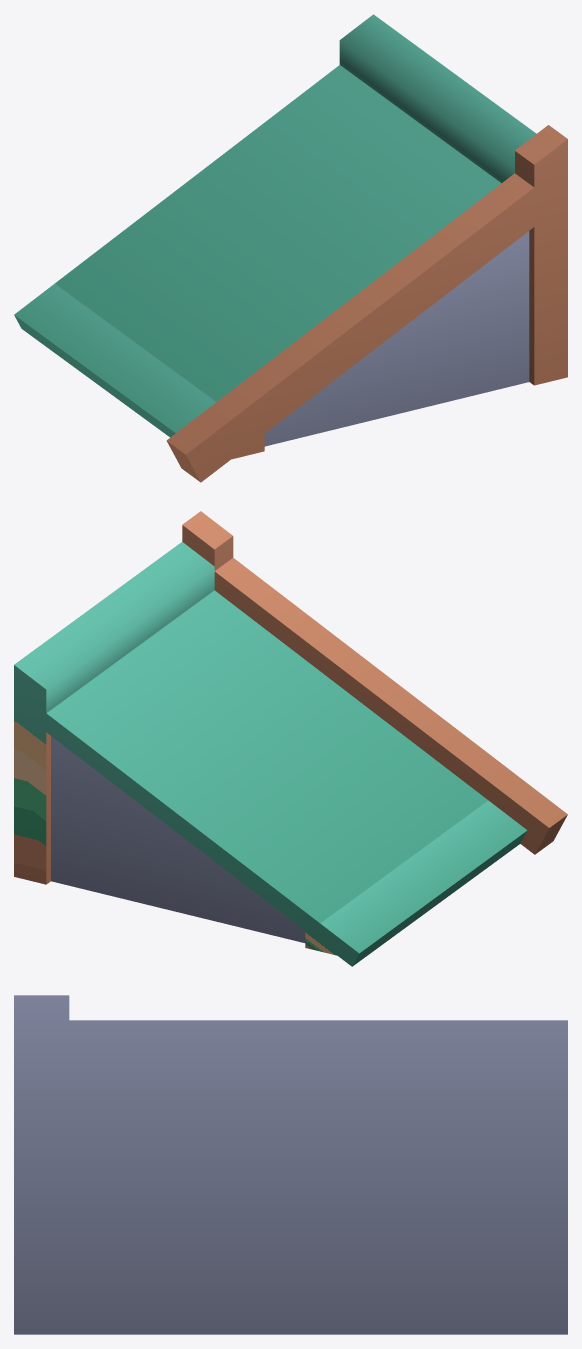
The model's file is roof-kn-roof-right.glb.
The picture shows the model from 3 angles, top to bottom: view 1: azimuth 30°, elevation 25°; view 2: azimuth 150°, elevation 25°; view 3: azimuth 270°, elevation 25°; orthographic projection. The views are drawn at different scales.
Visible parts, largest first — view 1: roof-right; view 2: roof-right; view 3: roof-right.
Part boxes in pixels (<box>): roof-right: <box>14,14,567,482</box>; roof-right: <box>14,511,567,966</box>; roof-right: <box>14,995,567,1334</box>.
Bounding box in the file's own units: 3.4 × 2.16 × 3.
1 material, 1 textured.
